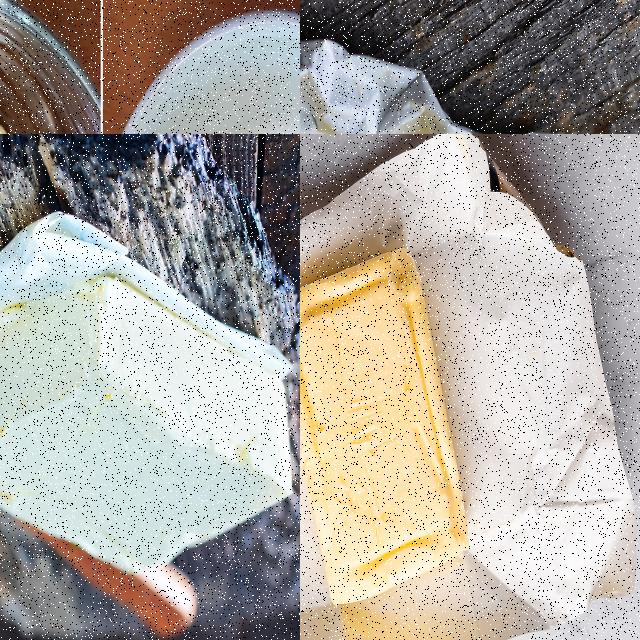butter: (0, 277, 293, 577), (300, 239, 472, 620)
